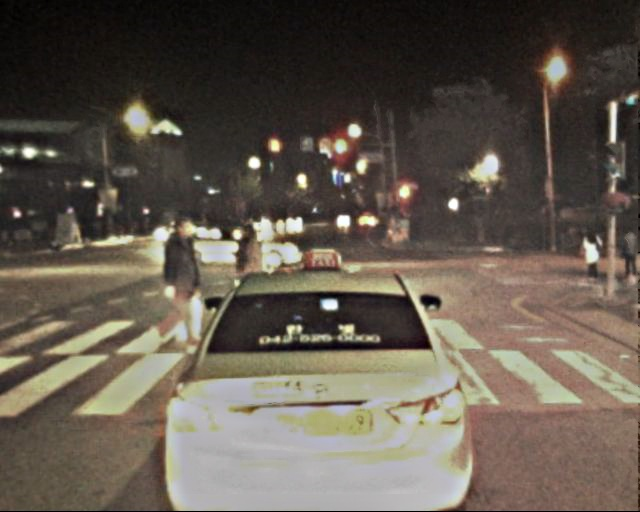person: (147, 217, 200, 347), (227, 225, 263, 313), (580, 227, 603, 284), (617, 227, 640, 284)
